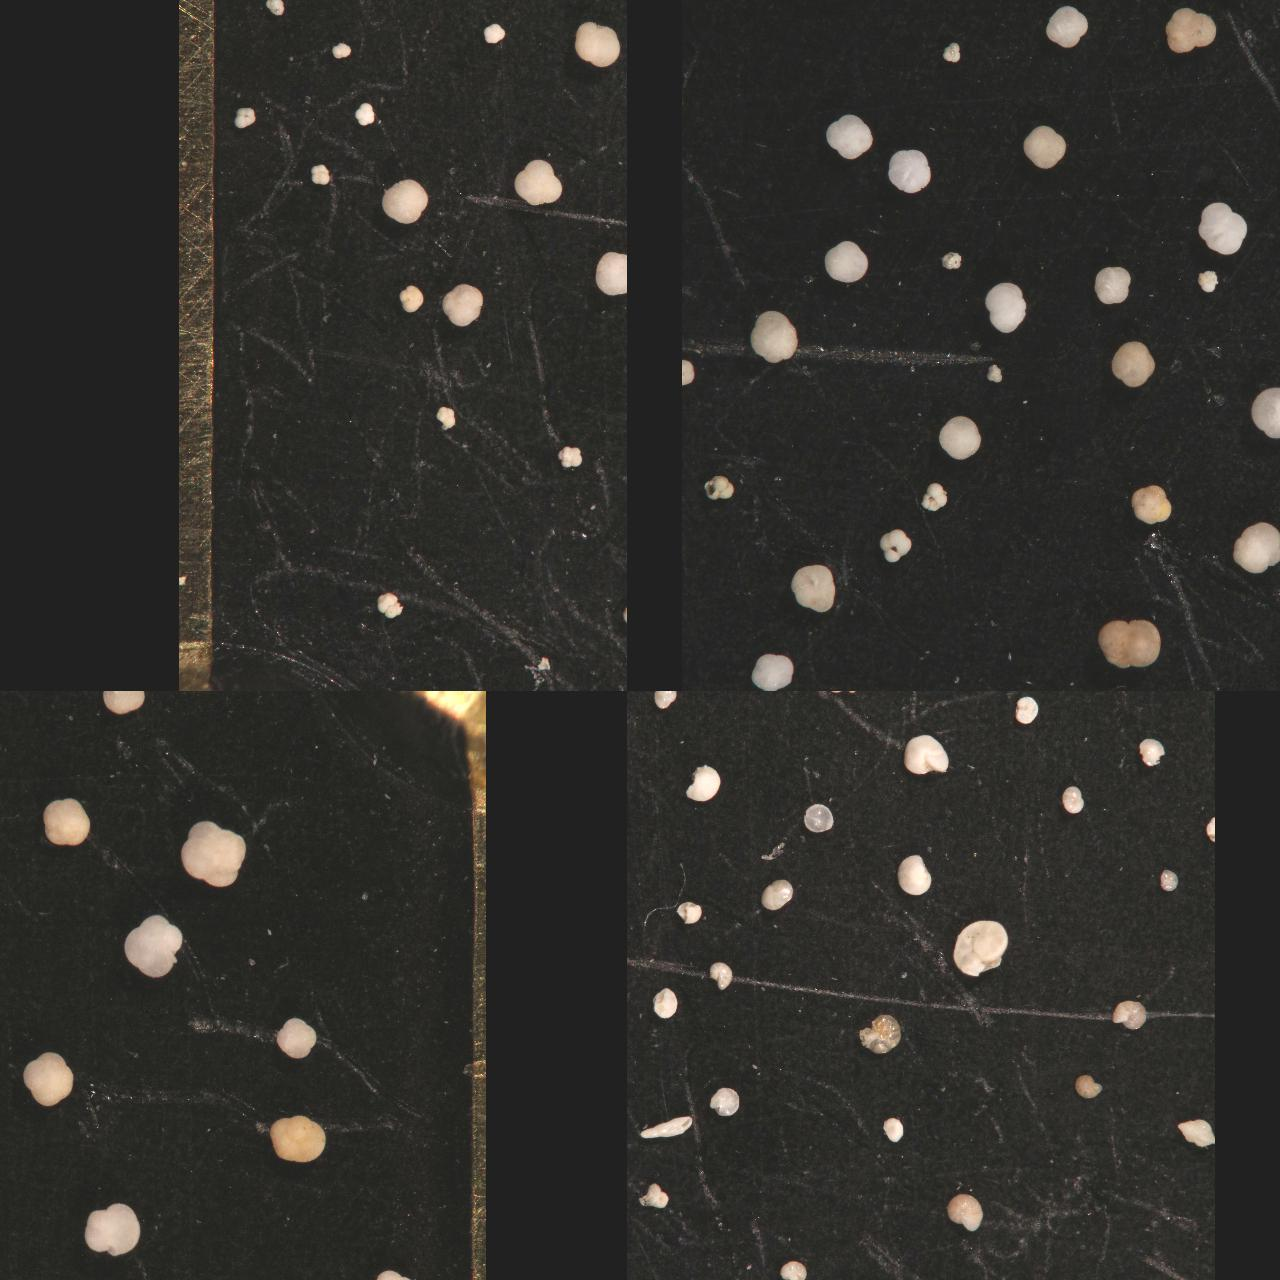calcareous: (952, 918, 1008, 978), (901, 733, 948, 776), (627, 692, 669, 740), (857, 1012, 901, 1053), (897, 850, 932, 896), (946, 1191, 983, 1230), (685, 762, 721, 802), (627, 1058, 654, 1111), (638, 1114, 693, 1139), (627, 836, 651, 896), (1111, 996, 1146, 1029), (760, 878, 792, 911), (1177, 1117, 1213, 1146), (794, 692, 835, 717), (736, 692, 774, 719), (708, 1084, 740, 1116), (802, 802, 835, 832), (822, 692, 866, 714), (651, 985, 678, 1019), (638, 1180, 668, 1210), (627, 692, 658, 720), (1013, 694, 1040, 726), (1074, 1073, 1104, 1099), (629, 692, 670, 712), (1138, 737, 1165, 767), (708, 959, 734, 989), (1061, 783, 1085, 812), (932, 692, 966, 713), (674, 900, 701, 926), (881, 1115, 905, 1142), (779, 1258, 806, 1280), (1057, 692, 1092, 707), (627, 1226, 644, 1257), (1159, 867, 1179, 892), (872, 692, 906, 706), (652, 692, 678, 709), (627, 859, 640, 888), (1183, 692, 1214, 703), (857, 692, 885, 704), (949, 692, 975, 706), (627, 948, 640, 975), (627, 692, 653, 704), (1006, 692, 1029, 704), (627, 787, 636, 816), (1150, 692, 1172, 703)
planktic: (179, 818, 247, 887), (123, 912, 184, 978), (1096, 614, 1163, 672), (83, 1200, 141, 1255), (21, 1049, 75, 1107), (1197, 198, 1250, 256), (270, 1112, 327, 1164), (1231, 518, 1280, 576), (749, 308, 798, 365), (1164, 4, 1218, 54), (40, 795, 90, 847), (791, 560, 837, 614), (983, 278, 1027, 334), (1108, 338, 1156, 388), (513, 157, 563, 205), (824, 110, 872, 159), (381, 175, 428, 225), (572, 20, 620, 68), (937, 413, 983, 461), (886, 147, 932, 195), (1021, 122, 1067, 170), (1043, 2, 1089, 49), (822, 238, 870, 282), (442, 282, 483, 327), (749, 651, 794, 692), (275, 1015, 316, 1058), (1250, 383, 1280, 441), (0, 833, 28, 894), (1130, 483, 1171, 524), (1092, 263, 1131, 304), (593, 251, 627, 297), (322, 0, 377, 28), (849, 0, 904, 27), (877, 526, 913, 565), (0, 1071, 27, 1122), (0, 1131, 27, 1182), (0, 709, 26, 758), (774, 0, 822, 26), (1224, 0, 1272, 23), (1099, 0, 1148, 23), (1216, 0, 1262, 23), (956, 0, 998, 25), (0, 921, 21, 968), (102, 692, 145, 714), (1009, 0, 1051, 22), (702, 472, 734, 502), (757, 0, 799, 21), (375, 588, 402, 621), (682, 0, 712, 29), (920, 481, 948, 511), (527, 0, 565, 21), (400, 282, 424, 313), (878, 0, 915, 20), (0, 821, 12, 881), (554, 444, 583, 468), (482, 20, 506, 46), (602, 0, 627, 25), (435, 403, 456, 431), (0, 933, 12, 983), (939, 248, 964, 272), (1197, 268, 1219, 294), (354, 101, 375, 128), (368, 1268, 416, 1280), (232, 105, 256, 129), (309, 163, 331, 188), (942, 39, 961, 63), (331, 40, 352, 60), (985, 361, 1003, 383), (682, 356, 695, 388), (1258, 0, 1280, 18), (1019, 0, 1046, 14), (264, 0, 284, 16), (469, 0, 491, 14)
